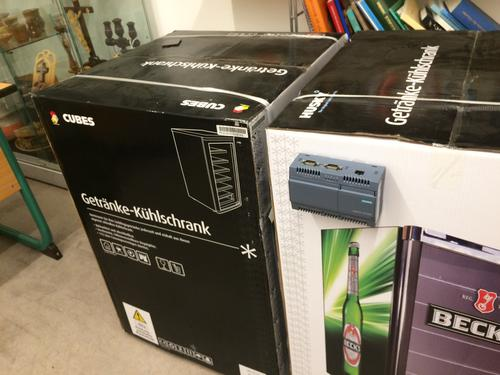iot2000: (287, 152, 386, 228)
